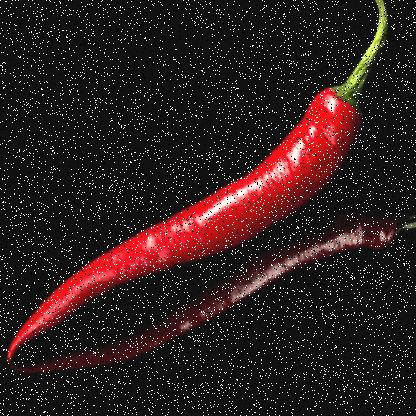chili: (0, 1, 389, 364)
